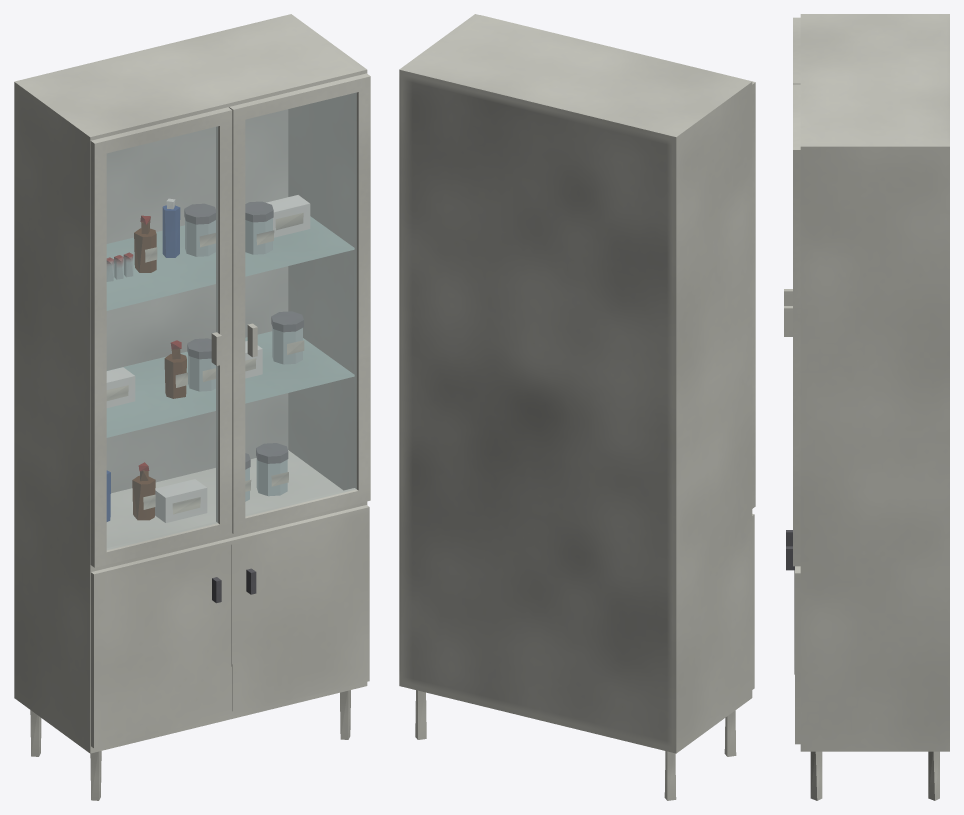
Rendered from Medicine_Cabinet.fbx.
3 renders of one model, left to right at view 1: azimuth 30°, elevation 25°; view 2: azimuth 150°, elevation 25°; view 3: azimuth 270°, elevation 25°, orthographic.
Visible parts, largest first — view 1: шкаф с лекарствами, шкаф с лекарствами дверь левая, шкаф с лекарствами дверь правая; view 2: шкаф с лекарствами, шкаф с лекарствами дверь левая; view 3: шкаф с лекарствами, шкаф с лекарствами дверь правая, шкаф с лекарствами дверь левая.
Part boxes in pixels (x1=…): шкаф с лекарствами: x1=14, y1=14, x2=369, y2=800; шкаф с лекарствами дверь левая: x1=90, y1=107, x2=232, y2=567; шкаф с лекарствами дверь правая: x1=229, y1=73, x2=370, y2=533; шкаф с лекарствами: x1=399, y1=14, x2=754, y2=800; шкаф с лекарствами дверь левая: x1=618, y1=48, x2=755, y2=508; шкаф с лекарствами: x1=786, y1=14, x2=949, y2=800; шкаф с лекарствами дверь правая: x1=784, y1=84, x2=800, y2=566; шкаф с лекарствами дверь левая: x1=784, y1=17, x2=800, y2=305.
Bounding box in the file's own units: 0.8 × 1.85 × 0.4225.
3 materials, 2 textured.
